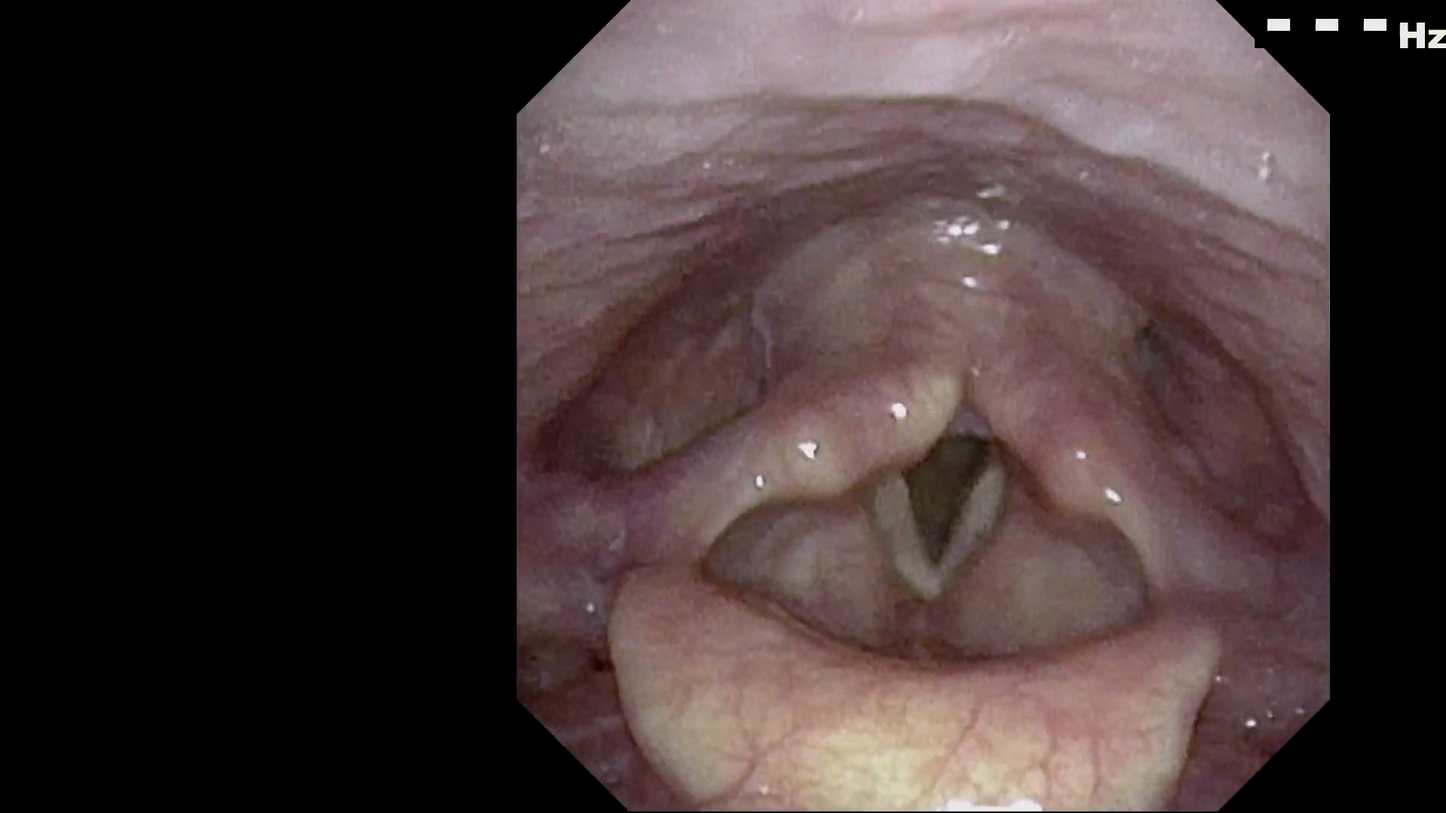epiglottis: (612, 503, 1228, 780)
trachea: (866, 353, 1044, 578)
